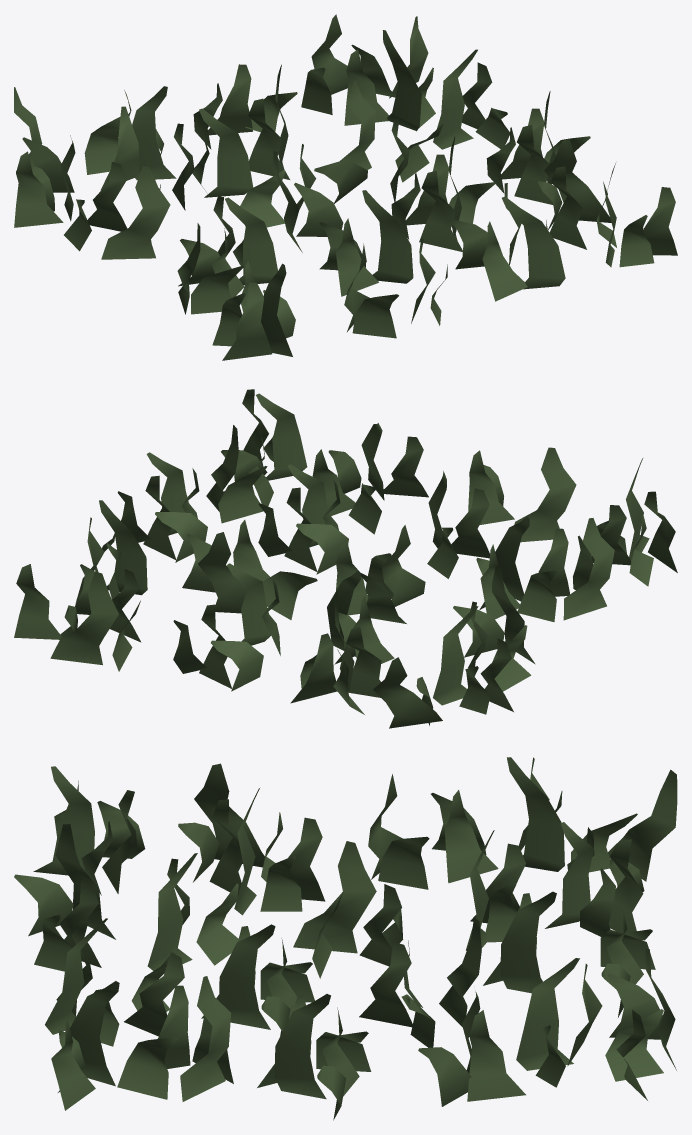
The model's file is grassClumpShort.fbx.
3 renders of one model, top to bottom at view 1: azimuth 30°, elevation 25°; view 2: azimuth 150°, elevation 25°; view 3: azimuth 270°, elevation 25°, orthographic. The views are drawn at different scales.
Parts seen in each view (by area): view 1: grassClumpShort; view 2: grassClumpShort; view 3: grassClumpShort.
Part boxes in pixels (x1=…): grassClumpShort: x1=14, y1=14, x2=677, y2=360; grassClumpShort: x1=14, y1=389, x2=677, y2=728; grassClumpShort: x1=14, y1=757, x2=677, y2=1120.
Size of the model in its own units: 95.49 by 18.91 by 93.9.
